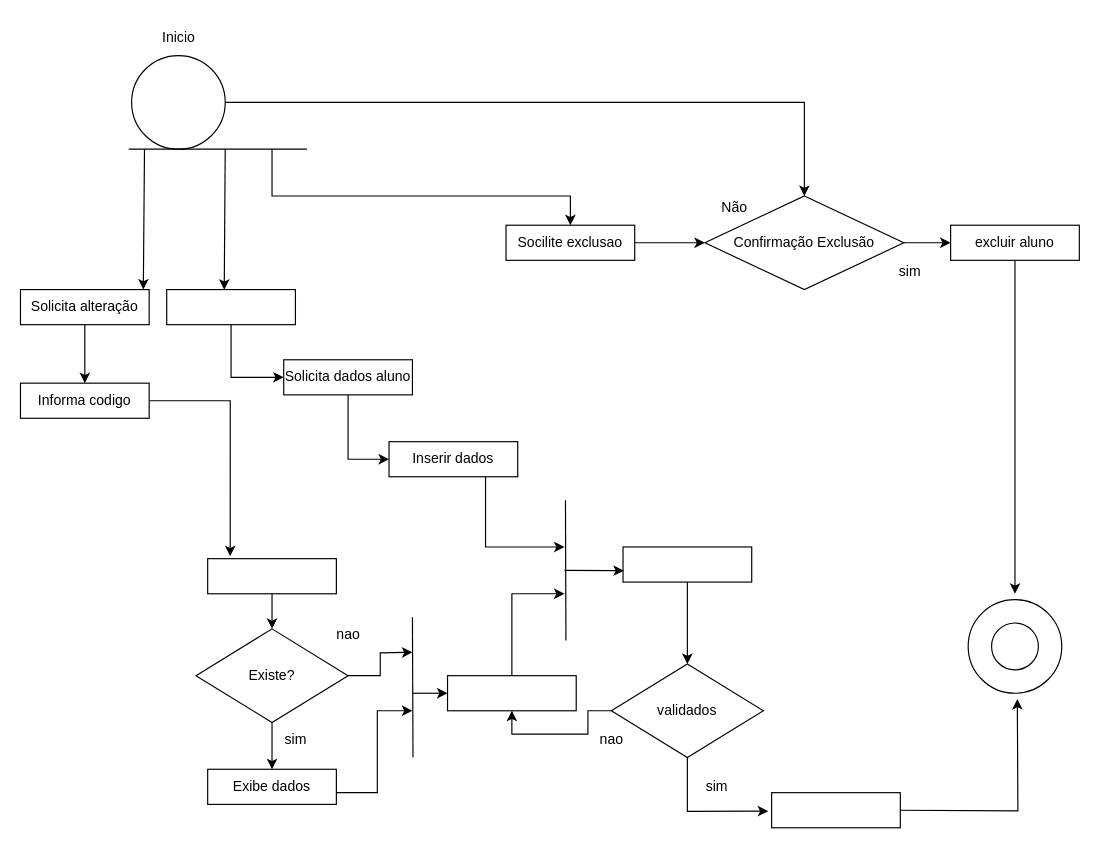
Image size: 1100x848. Some labels were removed from this diagram. The shapes that lost their labels are listed below. From the top down, each one's centre as x and y in pixels, then its label:
point (230, 306): Solicita a inclusão
point (271, 576): Solicita Busca
point (687, 564): Salvar
point (511, 693): editar alunos
point (835, 810): gravar dados
